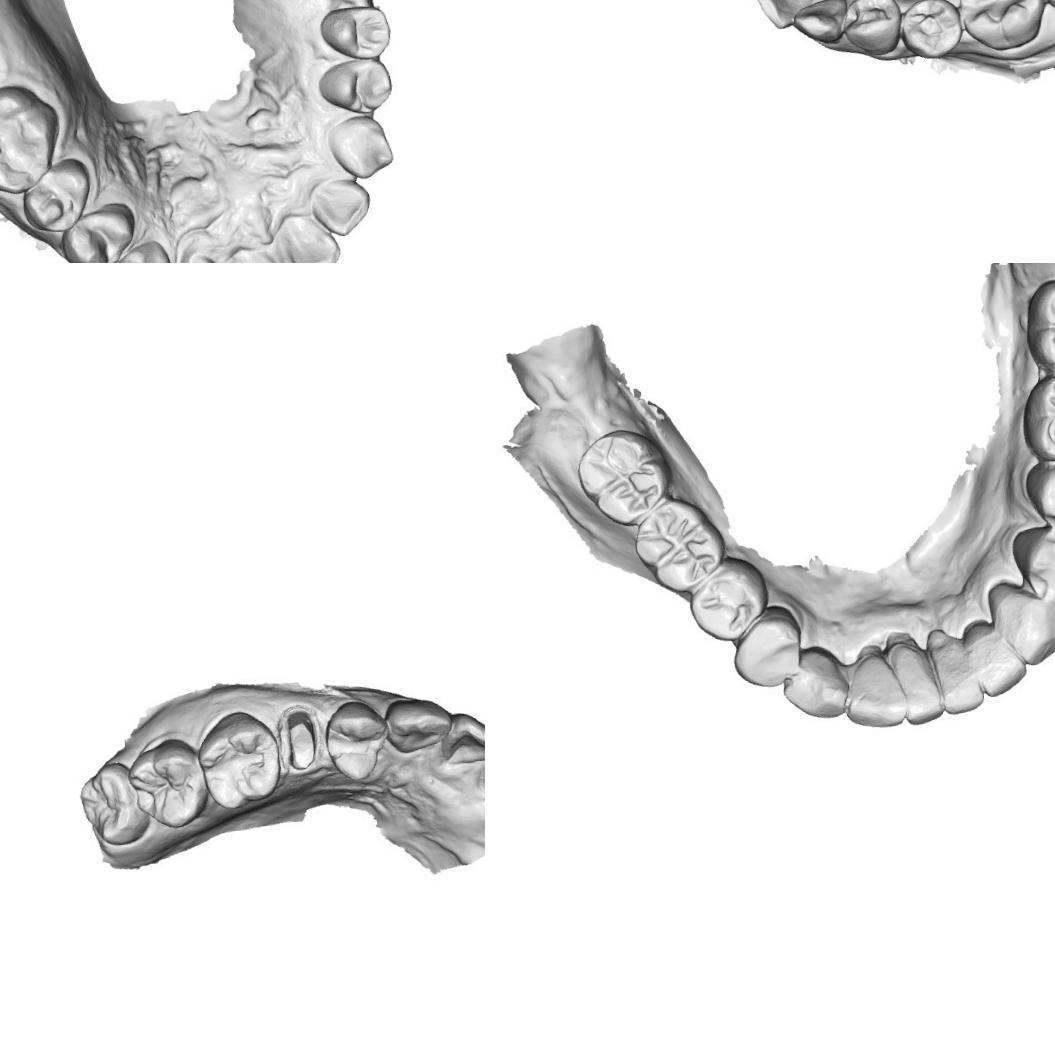canine: (781, 636, 852, 721), (986, 577, 1055, 661), (323, 111, 398, 185), (382, 691, 453, 764), (793, 0, 853, 47), (109, 236, 177, 263)
crown: (276, 701, 324, 777)
incisor: (845, 640, 911, 734), (882, 628, 942, 725), (965, 617, 1034, 700), (927, 624, 987, 716), (307, 175, 372, 238), (280, 209, 343, 263), (437, 705, 485, 774), (756, 0, 823, 36), (226, 242, 290, 263)
molar: (193, 706, 285, 816), (632, 496, 724, 594), (572, 426, 668, 519), (132, 730, 208, 830), (75, 758, 152, 850), (0, 88, 62, 202), (955, 0, 1045, 52), (1018, 364, 1055, 466), (1022, 270, 1055, 375)
premolar: (684, 557, 766, 642), (318, 693, 393, 785), (730, 602, 810, 688), (18, 156, 96, 236), (310, 55, 395, 116), (316, 0, 398, 62), (59, 199, 136, 263), (898, 0, 964, 59), (1009, 522, 1055, 603), (846, 0, 905, 56), (1024, 455, 1055, 536)
